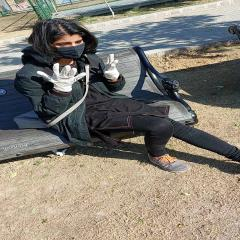gloved: (39, 63, 87, 91), (104, 54, 120, 79)
